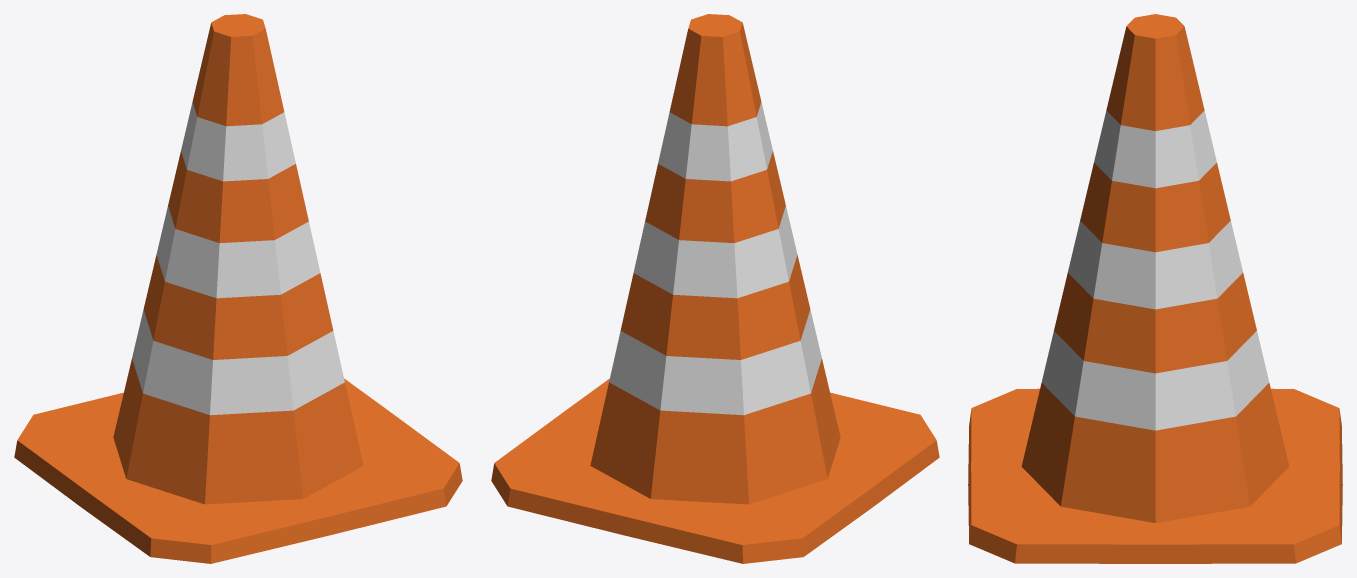
3 views of the same model, side by side, from view 1: azimuth 30°, elevation 25°; view 2: azimuth 150°, elevation 25°; view 3: azimuth 270°, elevation 25° (orthographic). The views are drawn at different scales.
Parts seen in each view (by area): view 1: cone; view 2: cone; view 3: cone.
Part boxes in pixels (box(x1,y1,x2,y2)): cone: box(14, 14, 462, 563); cone: box(491, 14, 939, 563); cone: box(968, 14, 1342, 563).
Bounding box in the file's own units: 231 × 312 × 231.
1 material, 1 textured.
